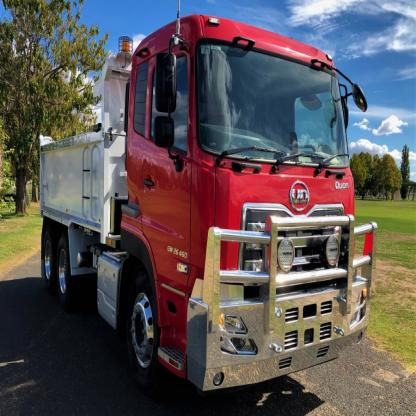dump_truck: (23, 12, 382, 412)
